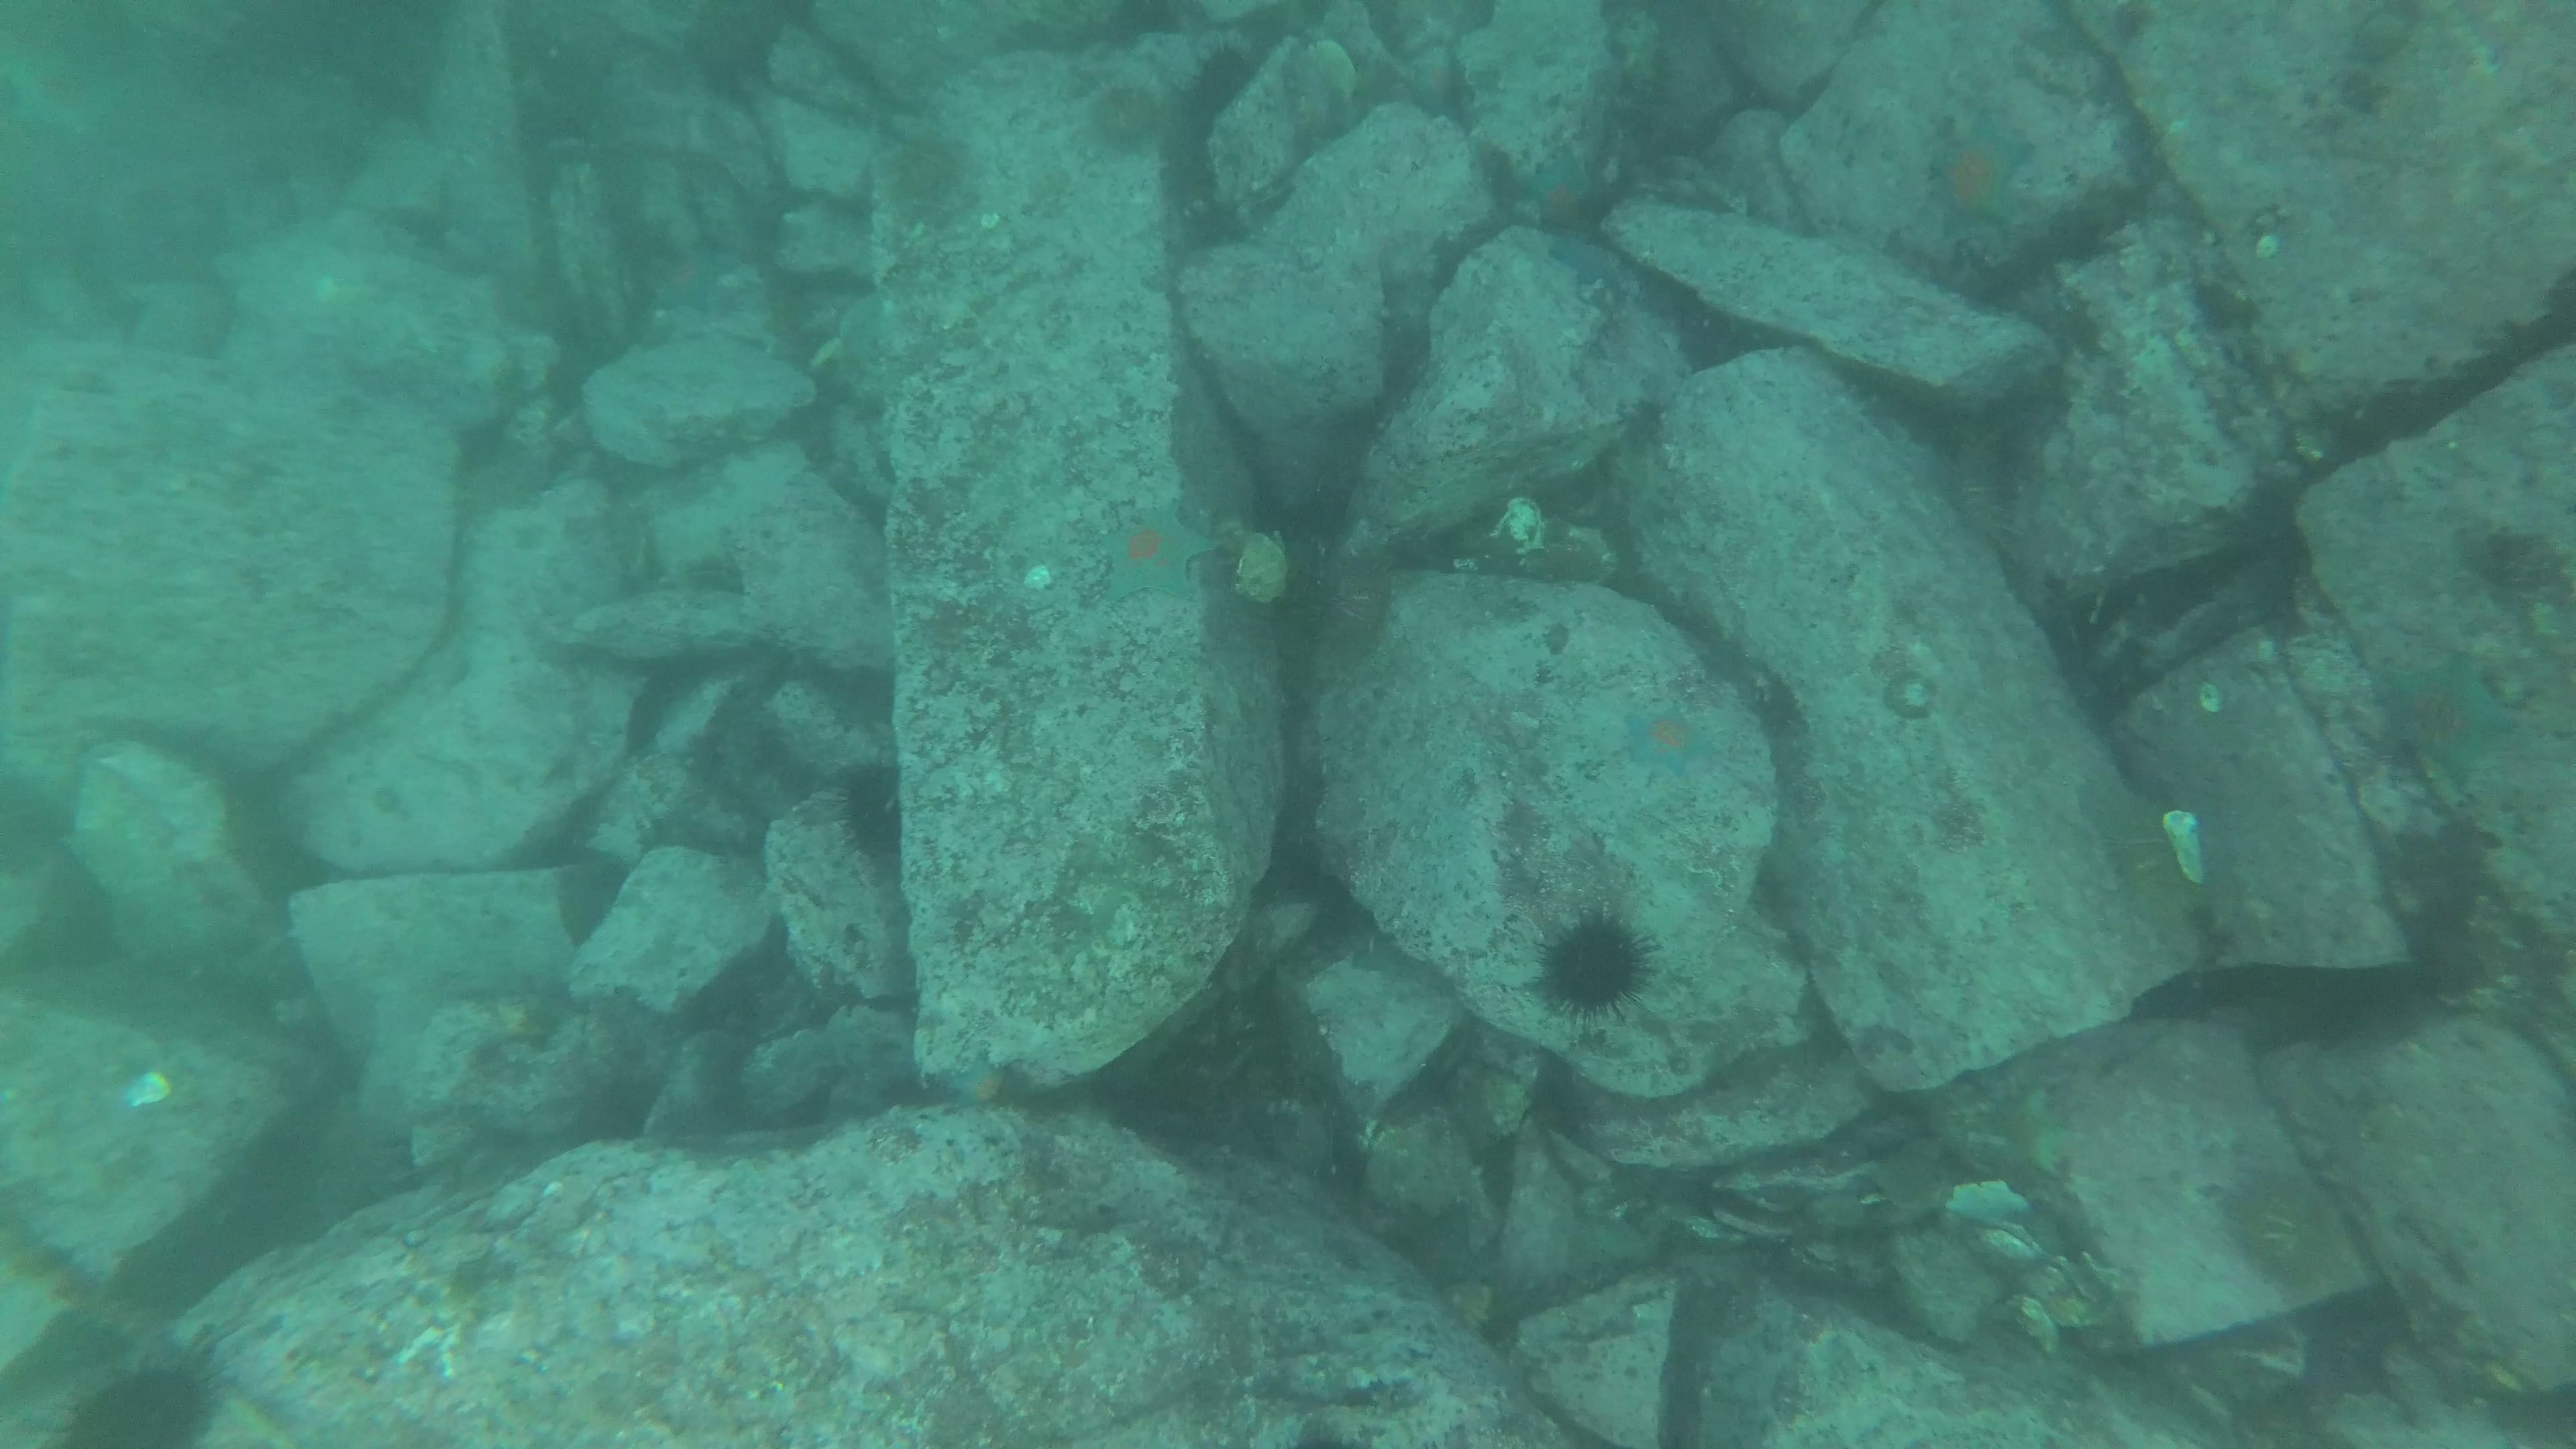echinus: (2231, 1171, 2351, 1297), (44, 1371, 214, 1449), (1548, 922, 1652, 1021), (1083, 83, 1164, 166), (1187, 48, 1254, 124), (892, 126, 957, 198)
scallop: (1219, 536, 1311, 614)
starfish: (1093, 497, 1214, 607), (1927, 117, 2040, 230)
